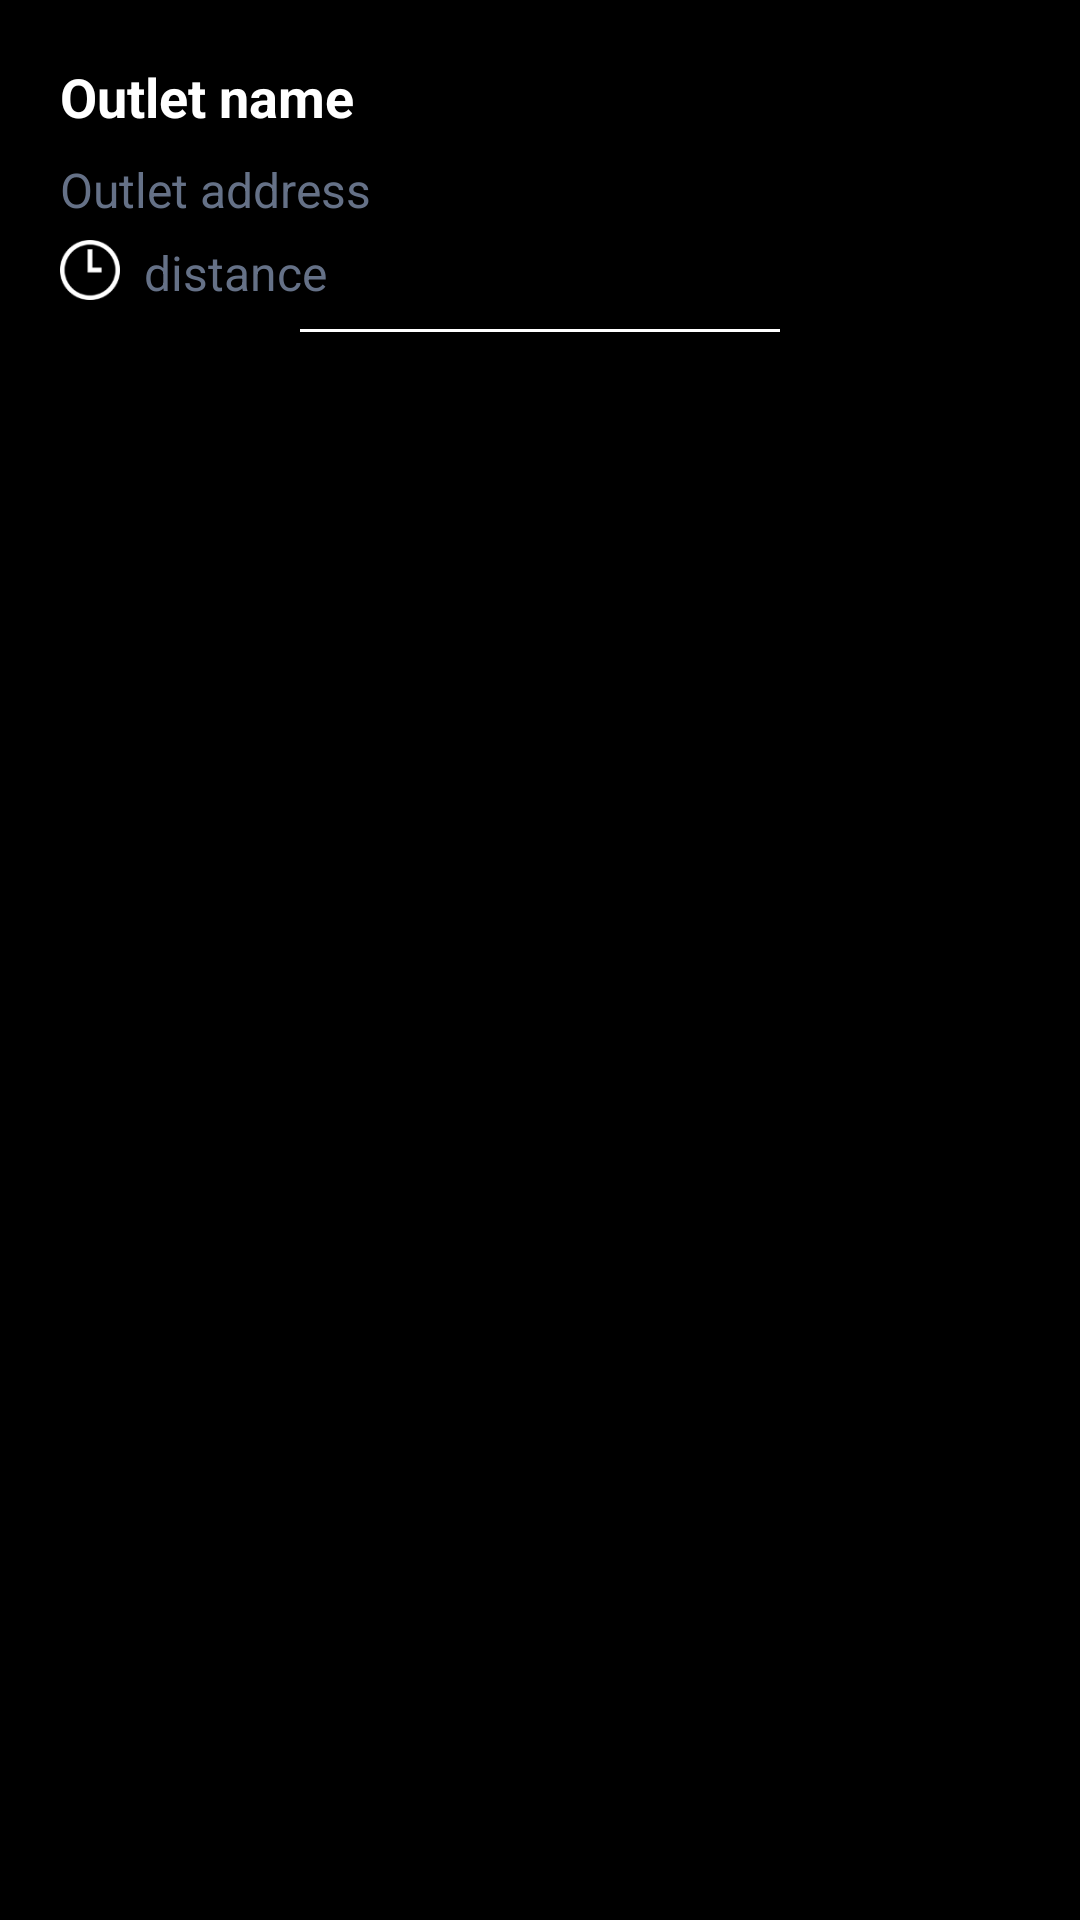

Named icons in this screenshot (1080 × 1920) and their bounding boxes, (x1, y1, x2, y2):
date: (60, 240, 120, 300)
